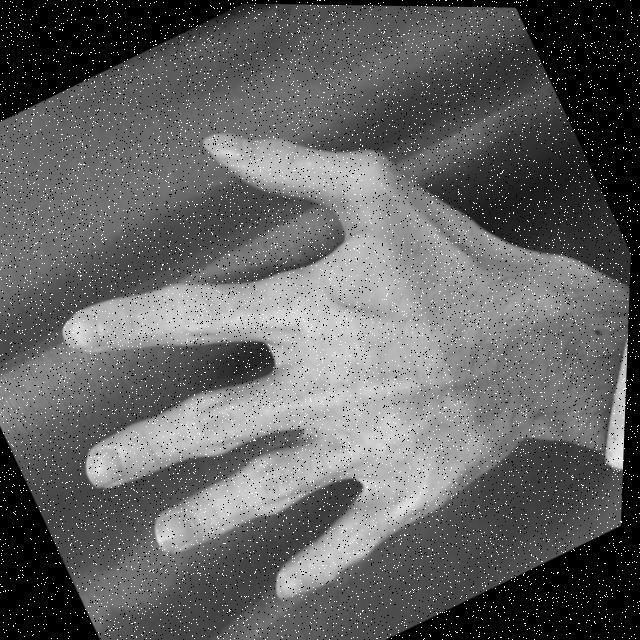no-gloves: (0, 46, 586, 640)
